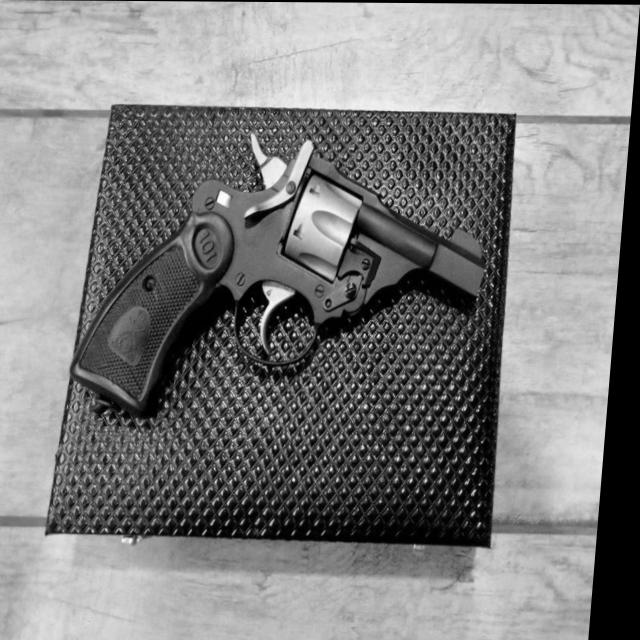handgun: (72, 134, 498, 422)
